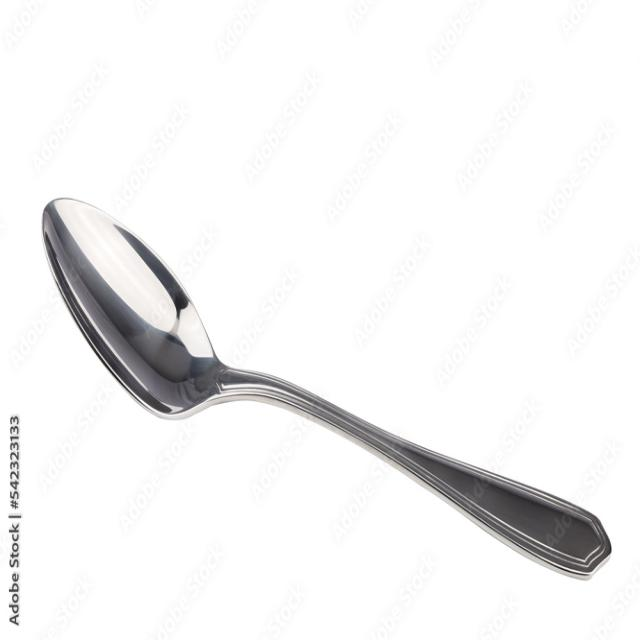spoon: (37, 181, 615, 580)
